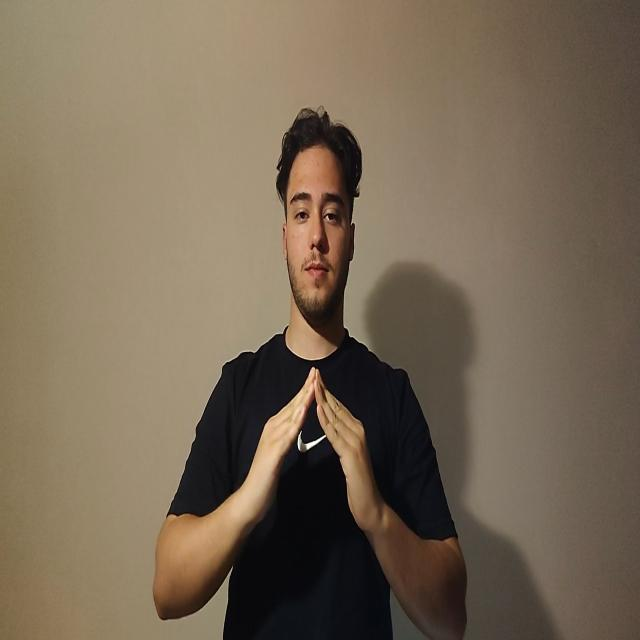house: (244, 363, 378, 534)
